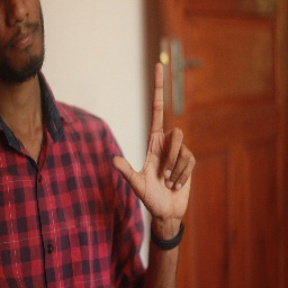L: (113, 64, 199, 215)
